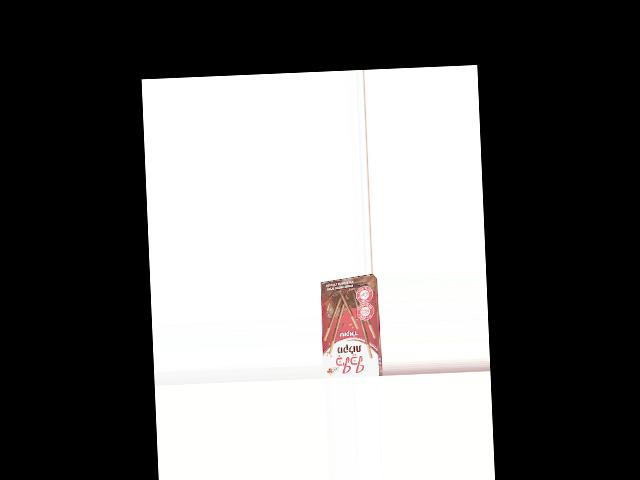chocolate: (318, 280, 381, 378)
